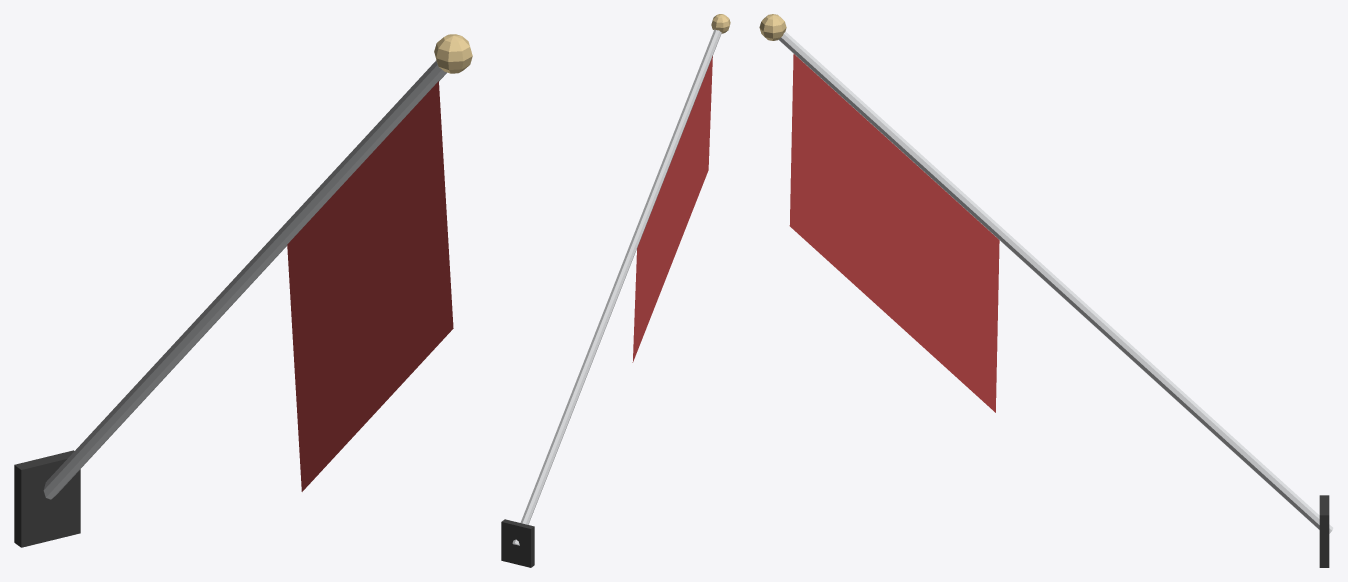
Rendered from flagpole_facade_4m.glb.
3 renders of one model, left to right at view 1: azimuth 30°, elevation 25°; view 2: azimuth 150°, elevation 25°; view 3: azimuth 270°, elevation 25°, orthographic. The views are drawn at different scales.
Visible parts, largest first — view 1: flag, pole; view 2: flag, pole; view 3: flag, pole.
Part boxes in pixels (box(x1,y1,x2,y2)): flag: box(287, 81, 453, 491); pole: box(14, 34, 472, 547); flag: box(632, 56, 712, 362); pole: box(501, 14, 730, 567); flag: box(789, 54, 999, 412); pole: box(759, 14, 1333, 567).
Size of the model in its own units: 0.24 by 3.08 by 2.95.
